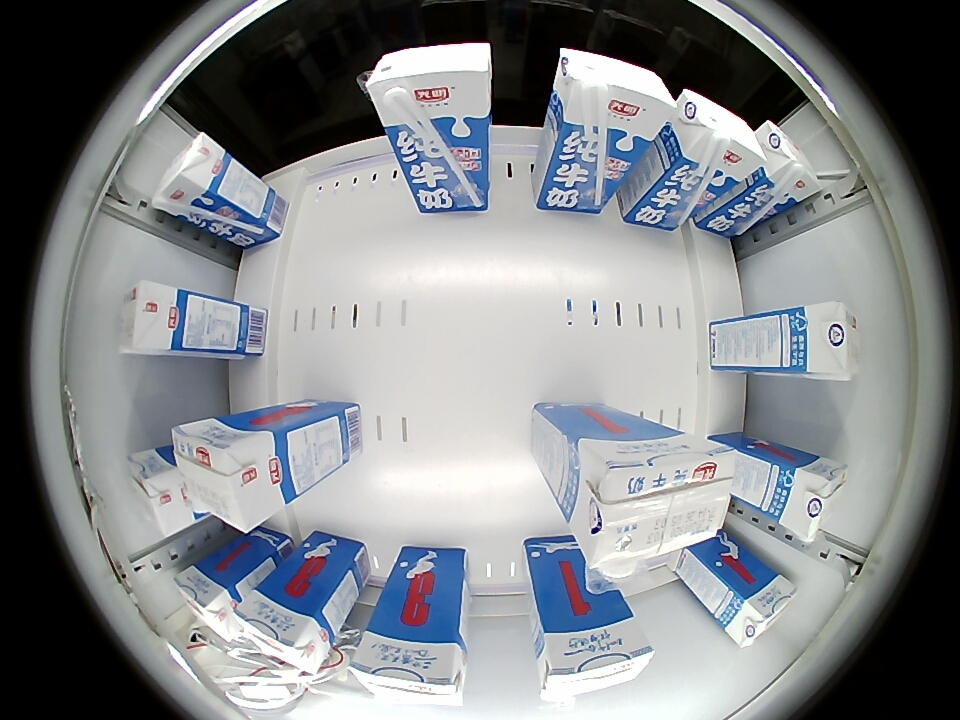niunai: (576, 430, 736, 571), (170, 417, 287, 533), (552, 47, 676, 148), (363, 42, 493, 136), (536, 618, 657, 702), (350, 627, 468, 707), (671, 88, 767, 185), (241, 590, 335, 674), (151, 133, 233, 222), (777, 454, 847, 542), (722, 567, 798, 648), (125, 448, 192, 536), (175, 561, 246, 644), (755, 120, 819, 206), (794, 301, 860, 379), (120, 280, 188, 355)
